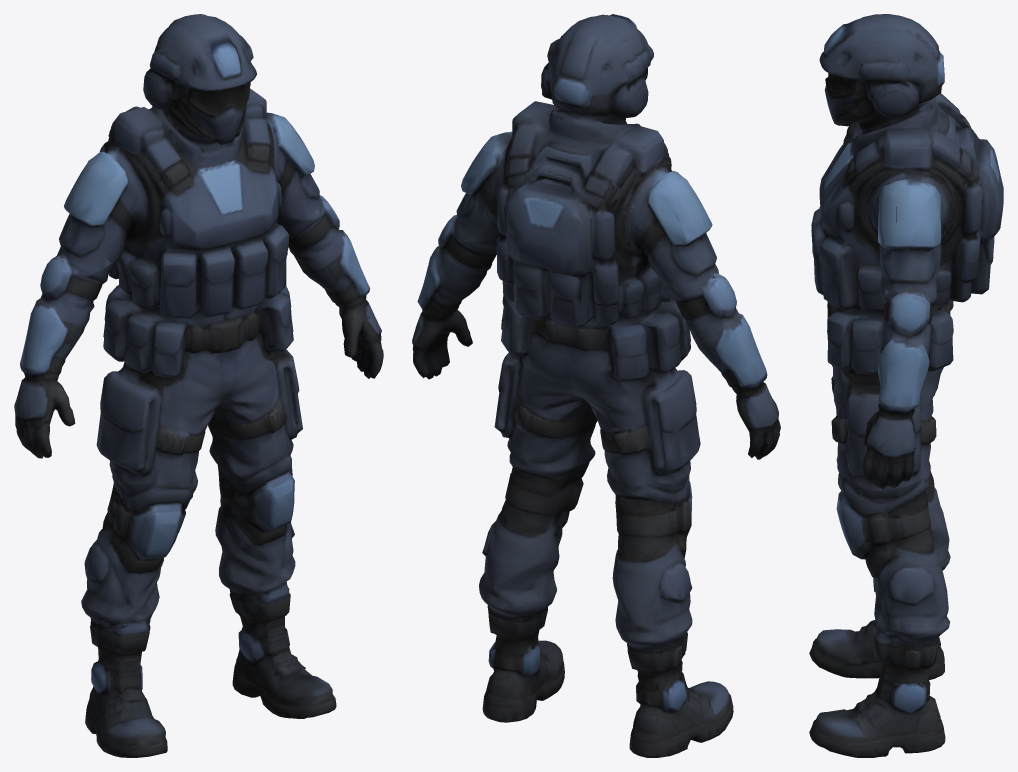
File: blue-soldier-lod0.fbx
The picture shows the model from 3 angles, left to right: view 1: azimuth 30°, elevation 25°; view 2: azimuth 150°, elevation 25°; view 3: azimuth 270°, elevation 25°; orthographic projection.
Parts seen in each view (by area): view 1: BlueSoldier_LOD0; view 2: BlueSoldier_LOD0; view 3: BlueSoldier_LOD0.
Boxes of the visible parts, box(x1,y1,x2,y2) form: BlueSoldier_LOD0: box(14, 14, 383, 757); BlueSoldier_LOD0: box(412, 14, 780, 757); BlueSoldier_LOD0: box(809, 14, 1003, 757).
Bounding box in the file's own units: 96.87 × 180 × 46.1.
1 material, 1 textured.
